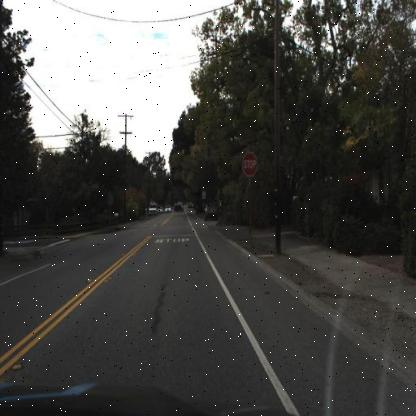car: (204, 196, 226, 222), (143, 201, 158, 217), (174, 199, 184, 216), (165, 205, 171, 214)
